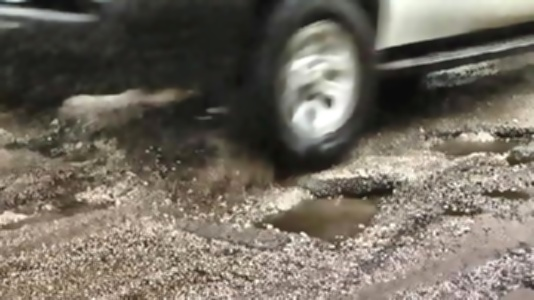pothole: (244, 176, 392, 247), (421, 123, 533, 169), (440, 197, 481, 217), (478, 187, 532, 201), (490, 282, 533, 299)
